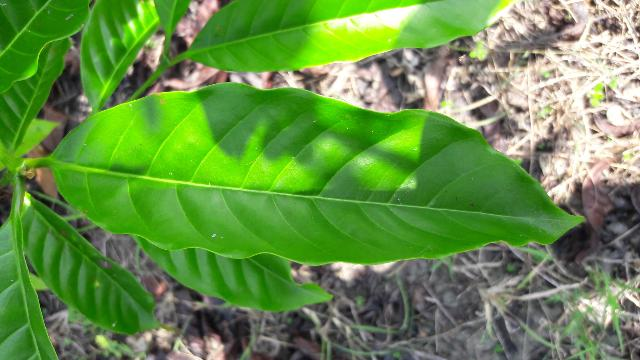healthy: (50, 81, 583, 262)
